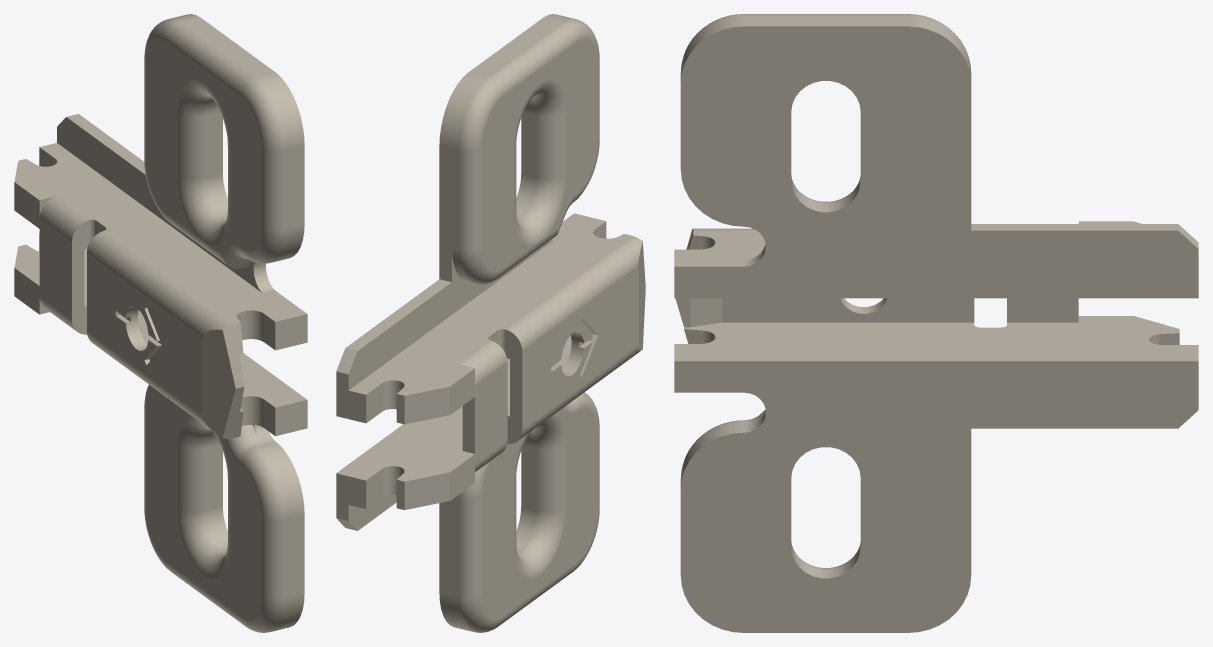
The picture shows the model from 3 angles, left to right: view 1: azimuth 30°, elevation 25°; view 2: azimuth 150°, elevation 25°; view 3: azimuth 270°, elevation 25°; orthographic projection. The views are drawn at different scales.
Visible parts, largest first — view 1: bau0020504027; view 2: bau0020504027; view 3: bau0020504027.
Boxes of the visible parts, x1,y1,x2,y2 form: bau0020504027: [14, 14, 307, 632]; bau0020504027: [336, 14, 645, 632]; bau0020504027: [674, 14, 1198, 632].
Bounding box in the file's own units: 8.5 × 53 × 41.5.
